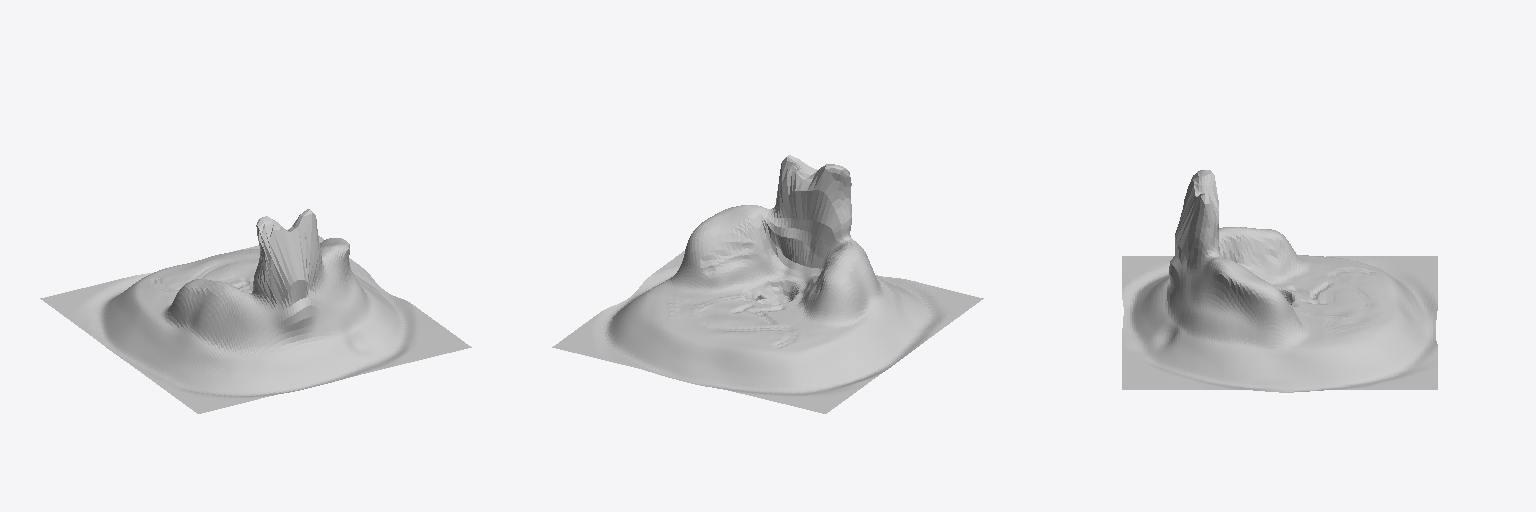
File: ExampleTerrain.obj
3 renders of one model, left to right at view 1: azimuth 30°, elevation 25°; view 2: azimuth 150°, elevation 25°; view 3: azimuth 270°, elevation 25°, orthographic.
Parts seen in each view (by area): view 1: ExampleTerrain; view 2: ExampleTerrain; view 3: ExampleTerrain.
Boxes of the visible parts, x1,y1,x2,y2 form: ExampleTerrain: [40, 209, 471, 413]; ExampleTerrain: [552, 155, 983, 413]; ExampleTerrain: [1122, 170, 1437, 392].
Size of the model in its own units: 200 by 99.49 by 200.